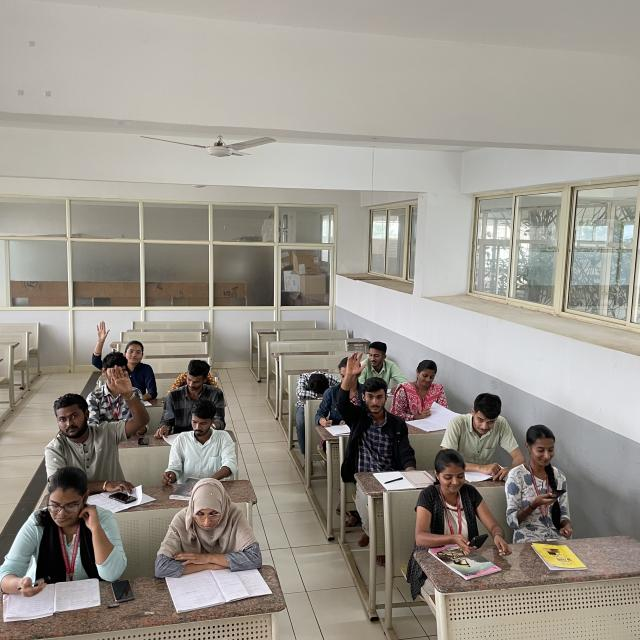Hand Rising: (40, 363, 144, 482), (336, 351, 410, 460), (89, 321, 154, 389)
Reading: (157, 474, 275, 598), (398, 357, 462, 429)
Sleeping: (295, 363, 344, 398)
Using Phone: (420, 453, 510, 555), (511, 422, 583, 518)
Writing: (5, 470, 106, 607), (155, 360, 224, 442), (318, 352, 359, 436), (357, 341, 402, 398)
